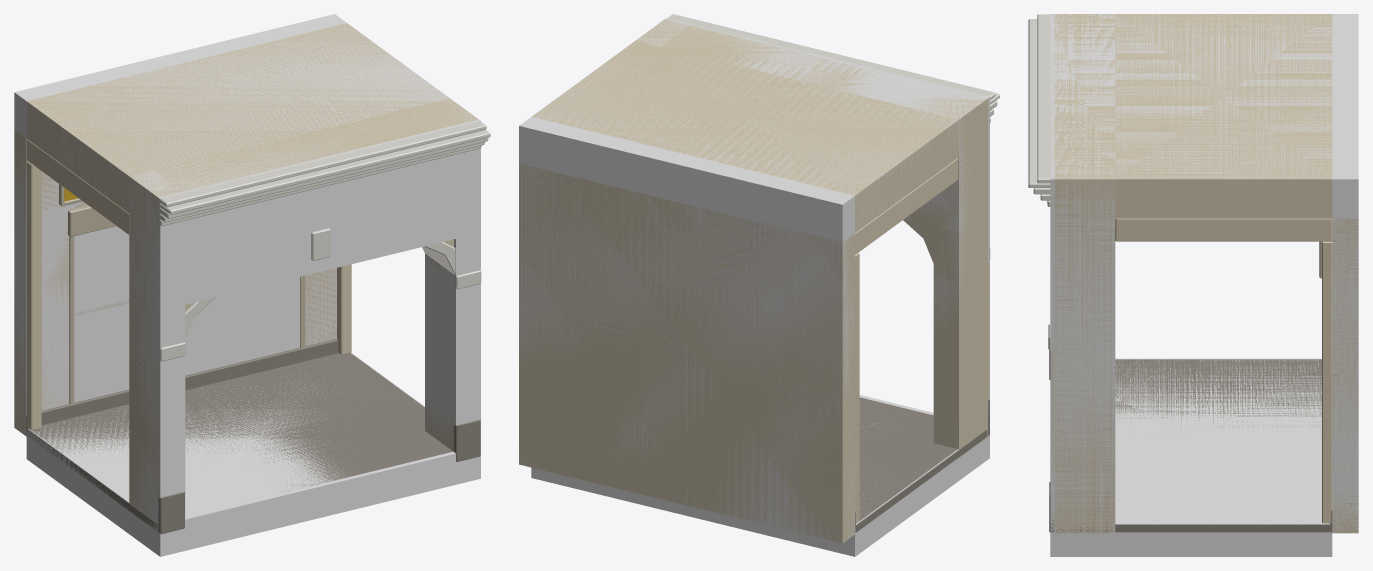
Rendered from KIT_Arcade_Colonial_A.glb.
The picture shows the model from 3 angles, left to right: view 1: azimuth 30°, elevation 25°; view 2: azimuth 150°, elevation 25°; view 3: azimuth 270°, elevation 25°; orthographic projection. The views are drawn at different scales.
Visible parts, largest first — view 1: KIT_Arcade_Colonial_A_COL, KIT_Arcade_Colonial_A; view 2: KIT_Arcade_Colonial_A, KIT_Arcade_Colonial_A_COL; view 3: KIT_Arcade_Colonial_A_COL, KIT_Arcade_Colonial_A.
Part boxes in pixels (left/top/right/bottom): KIT_Arcade_Colonial_A_COL: left=14, top=14, right=480, bottom=556; KIT_Arcade_Colonial_A: left=14, top=23, right=490, bottom=534; KIT_Arcade_Colonial_A: left=519, top=14, right=999, bottom=543; KIT_Arcade_Colonial_A_COL: left=519, top=18, right=989, bottom=556; KIT_Arcade_Colonial_A_COL: left=1050, top=14, right=1358, bottom=556; KIT_Arcade_Colonial_A: left=1028, top=14, right=1358, bottom=533.
Size of what is drawn, in the model's own units: 4.5 by 4.8 by 3.8.
